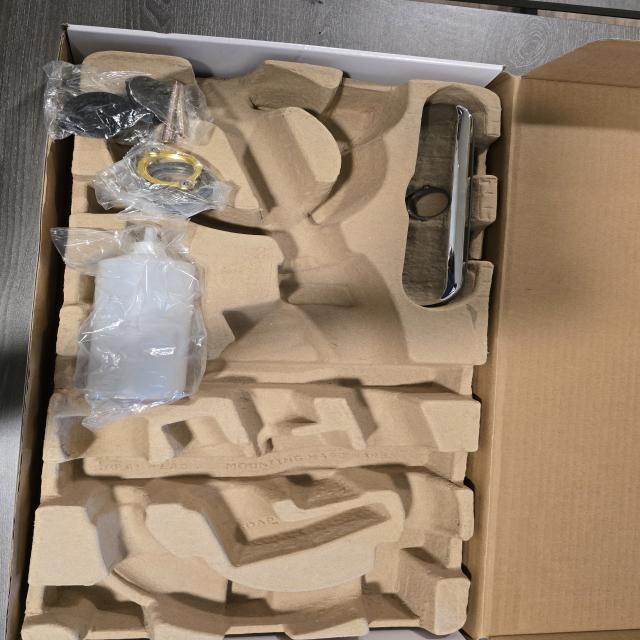1m: (58, 62, 459, 632)
2m: (159, 417, 390, 564)
3: (77, 225, 193, 401)
4: (404, 102, 472, 306)
5m: (324, 95, 401, 145)
6: (90, 133, 234, 221)
7: (49, 61, 207, 147)
